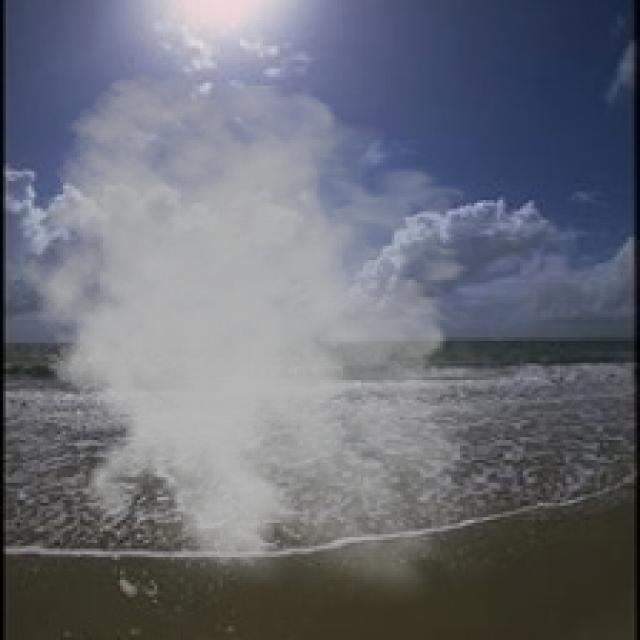Smoke: (0, 72, 529, 618)
